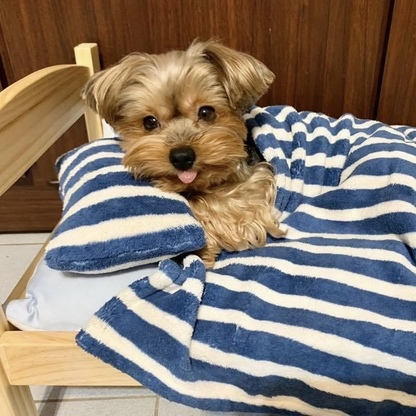yorkshire: (81, 37, 279, 251)
